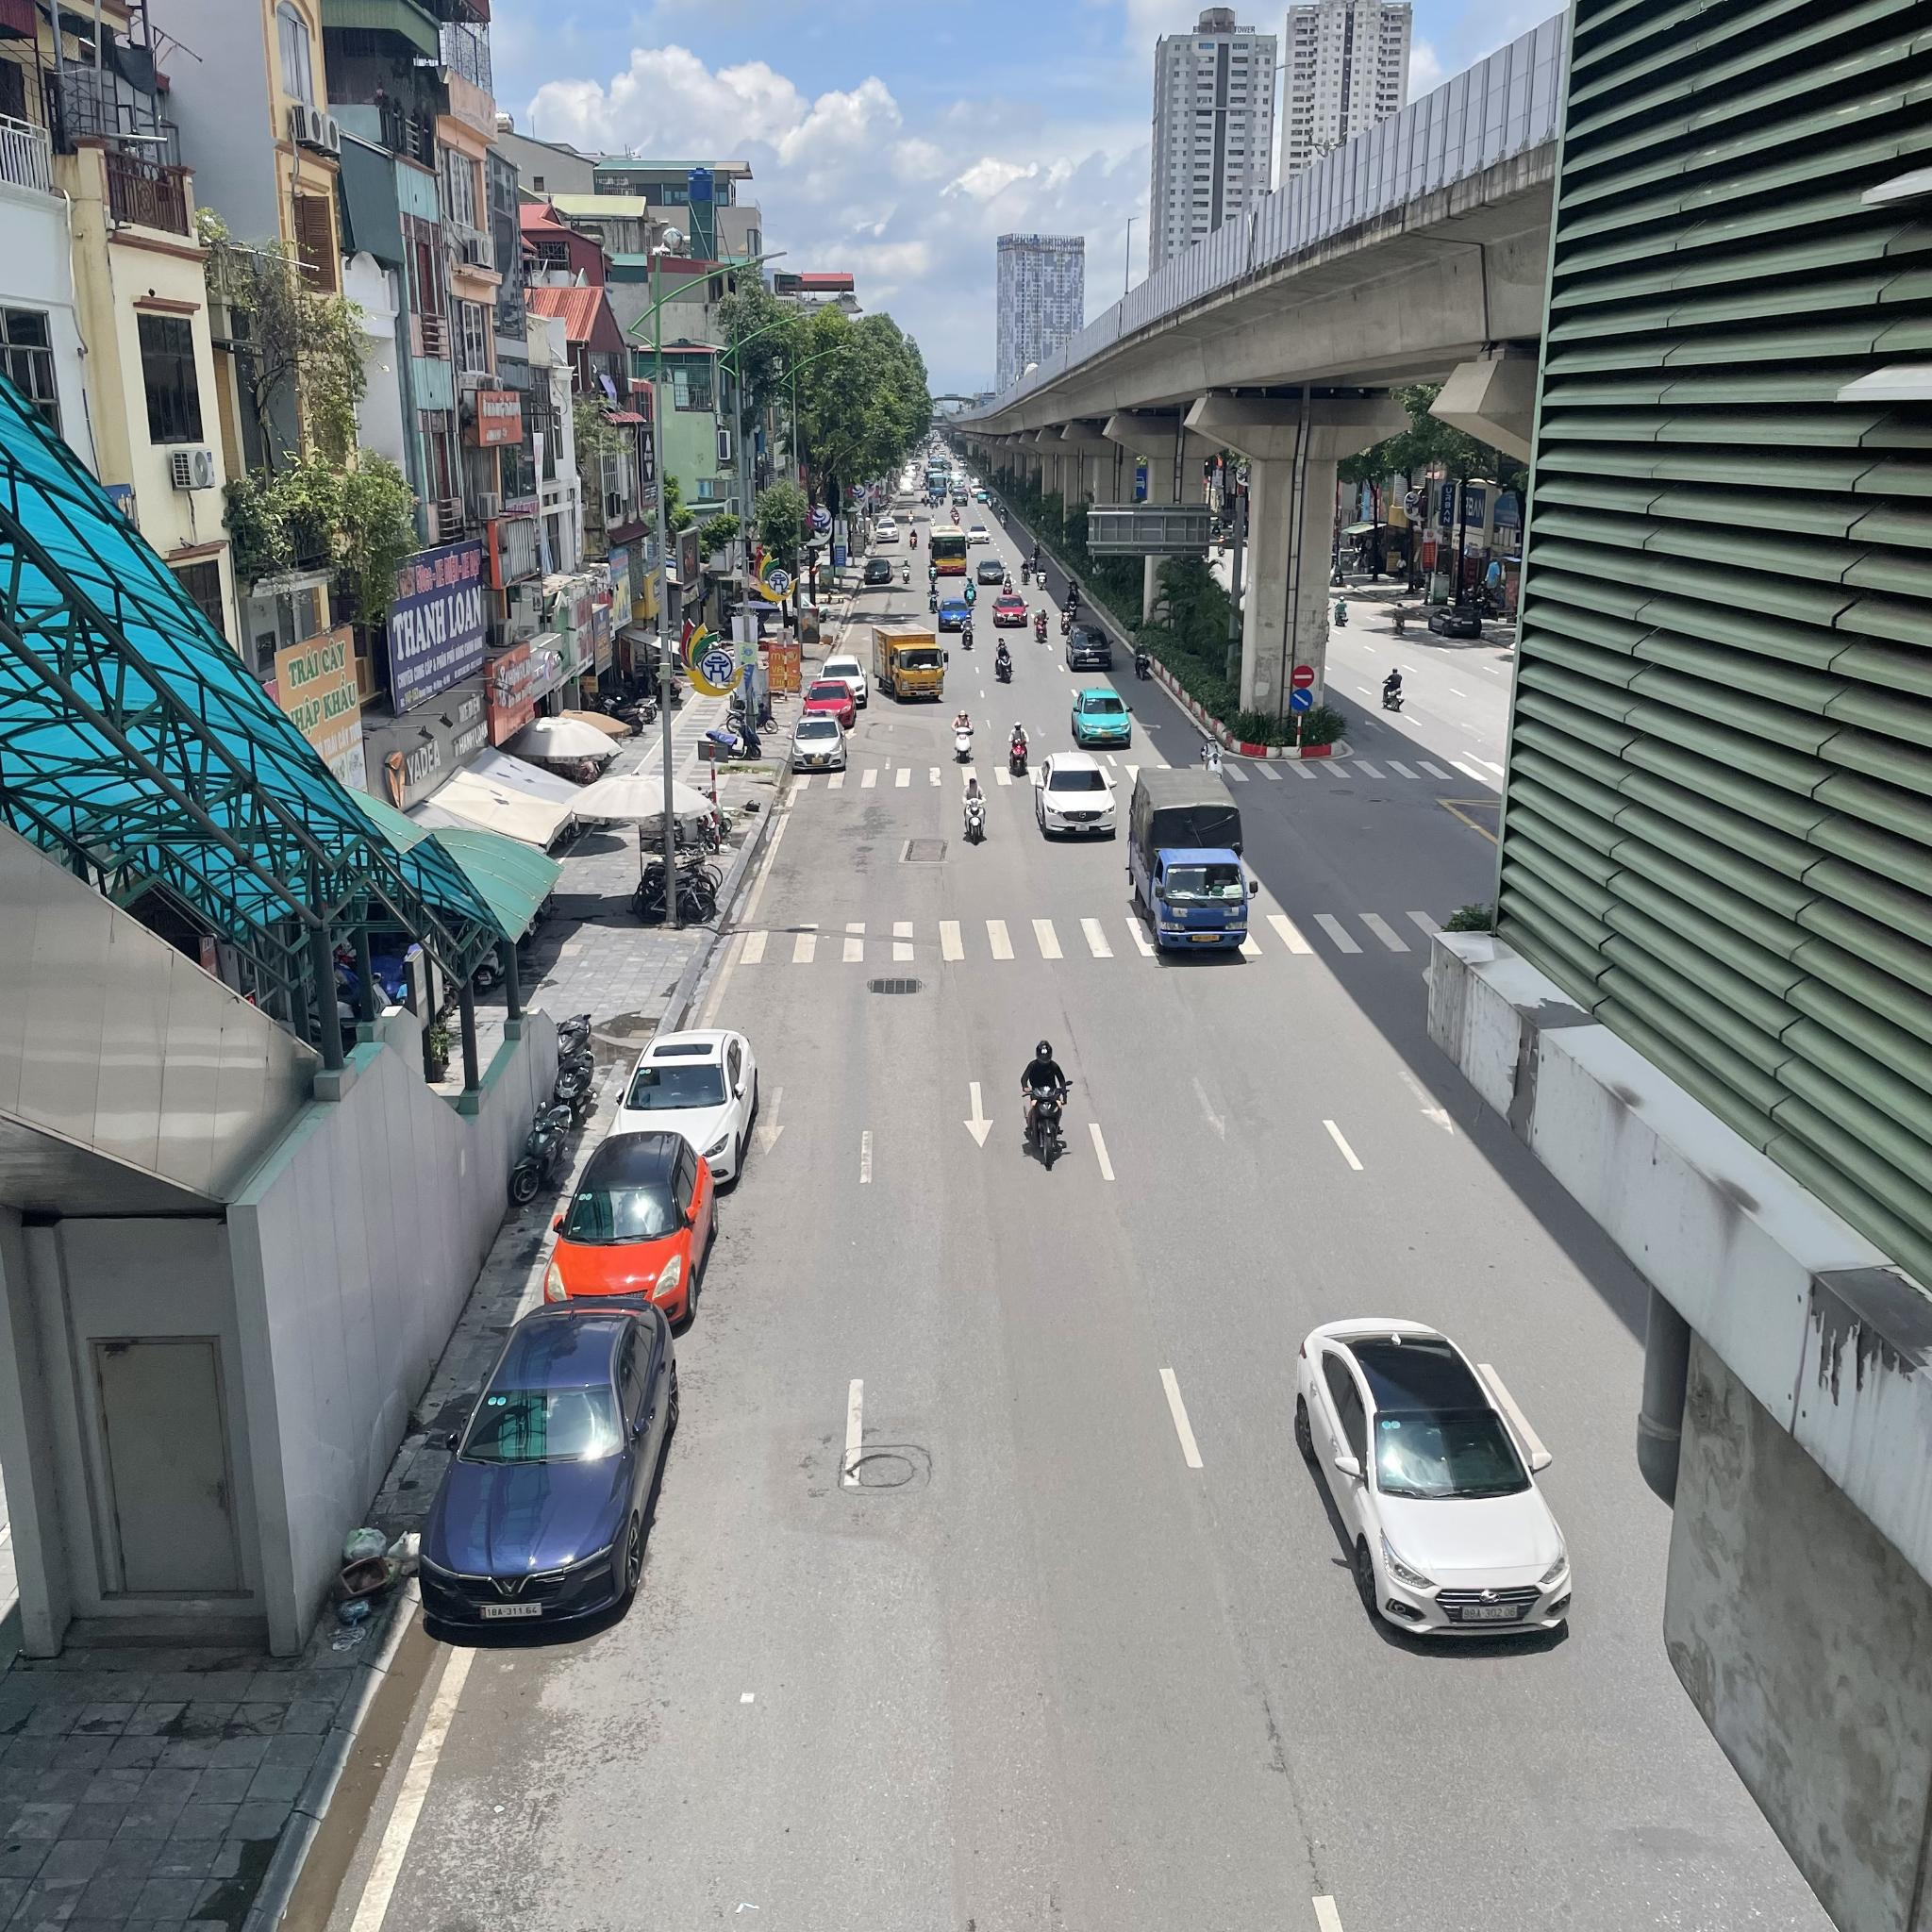car: (410, 1292, 678, 1652), (1300, 1316, 1582, 1652), (545, 1131, 720, 1330), (1129, 766, 1256, 964), (616, 1028, 757, 1184), (1035, 754, 1118, 840), (874, 623, 950, 701), (1070, 690, 1138, 745), (793, 717, 847, 777), (1069, 625, 1115, 671), (993, 598, 1028, 626)
motobike: (1012, 1035, 1088, 1168), (954, 766, 993, 849), (994, 637, 1016, 683), (954, 711, 973, 761), (1010, 724, 1028, 777), (1136, 640, 1150, 683), (1033, 609, 1047, 644), (961, 614, 973, 649)
